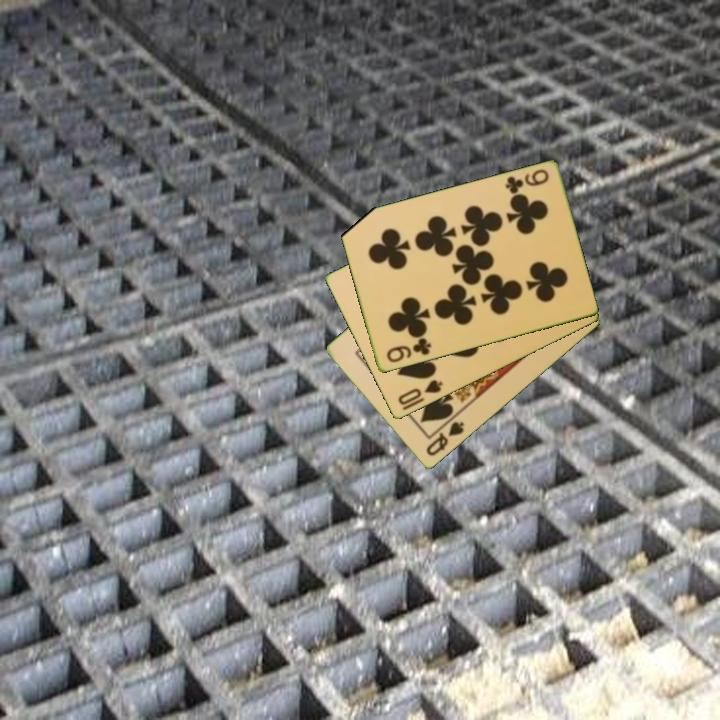10s: (394, 376, 445, 408)
9c: (383, 335, 434, 366), (502, 166, 552, 197)
Qs: (422, 418, 467, 459)
